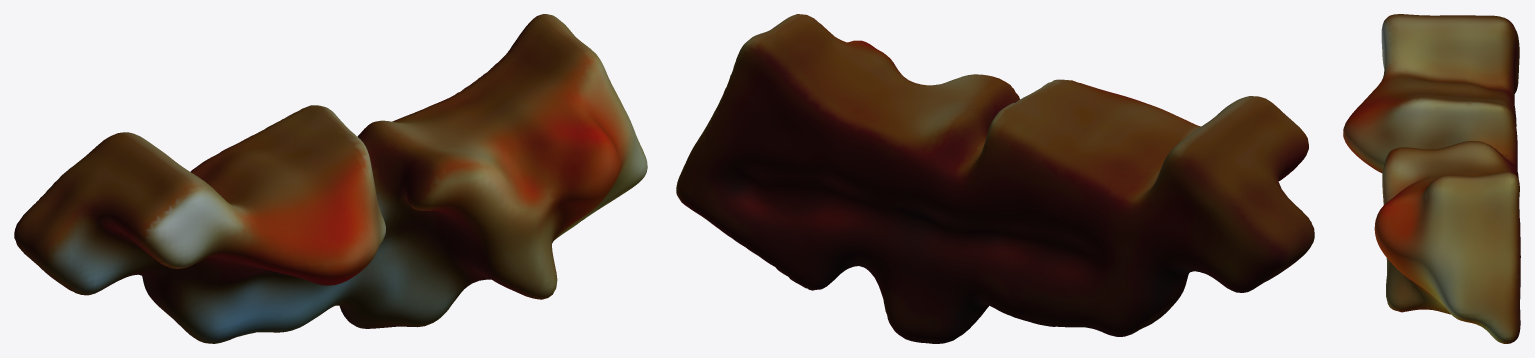
Rendered from blocks.glb.
The picture shows the model from 3 angles, left to right: view 1: azimuth 30°, elevation 25°; view 2: azimuth 150°, elevation 25°; view 3: azimuth 270°, elevation 25°; orthographic projection. The views are drawn at different scales.
Bounding box in the file's own units: 0.9993 × 0.4141 × 0.3217.
